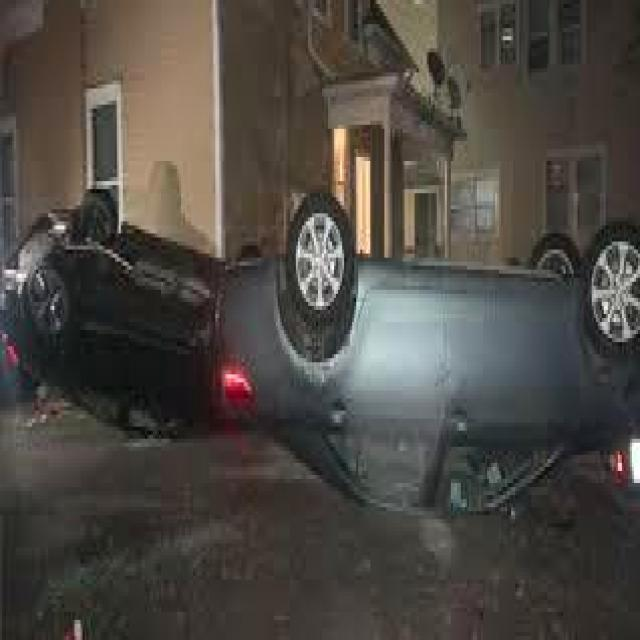severe: (201, 177, 640, 515), (0, 177, 227, 442)
